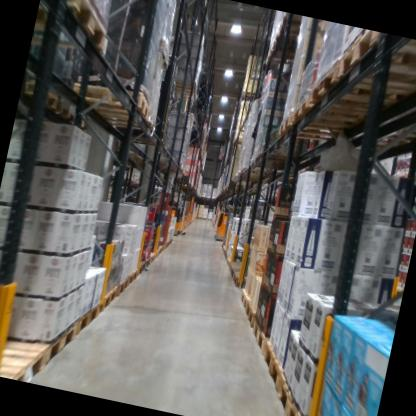pallet: (303, 62, 416, 132), (269, 99, 389, 163), (330, 25, 416, 89), (67, 70, 154, 126), (8, 304, 80, 370), (35, 0, 116, 56), (292, 89, 388, 134), (101, 31, 173, 75), (93, 96, 159, 141), (269, 362, 322, 416), (0, 337, 44, 383), (255, 339, 288, 394), (247, 317, 287, 358), (19, 80, 60, 118), (246, 142, 297, 172), (67, 299, 102, 339), (170, 77, 203, 106), (53, 96, 82, 125), (94, 284, 119, 315), (241, 302, 263, 328), (230, 269, 256, 291), (120, 265, 139, 292), (227, 265, 250, 286), (109, 275, 129, 298), (130, 258, 147, 281), (237, 288, 249, 311), (178, 179, 195, 190), (141, 257, 150, 273), (201, 216, 208, 221), (197, 215, 202, 220)
pallet_truck: (211, 199, 238, 246), (164, 198, 189, 237)
